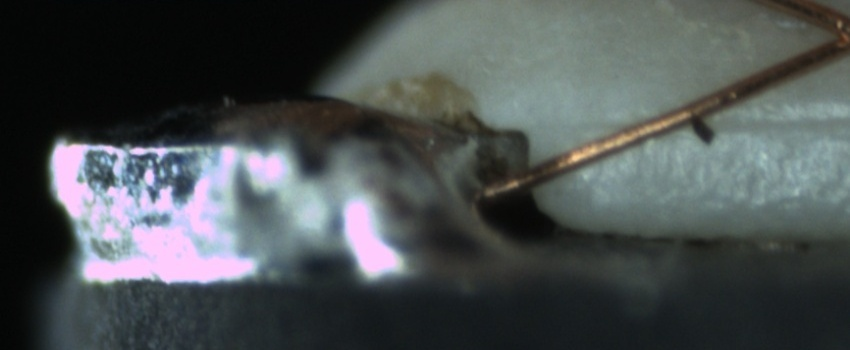CL: (800, 5, 850, 64)
DL: (566, 91, 845, 153)
